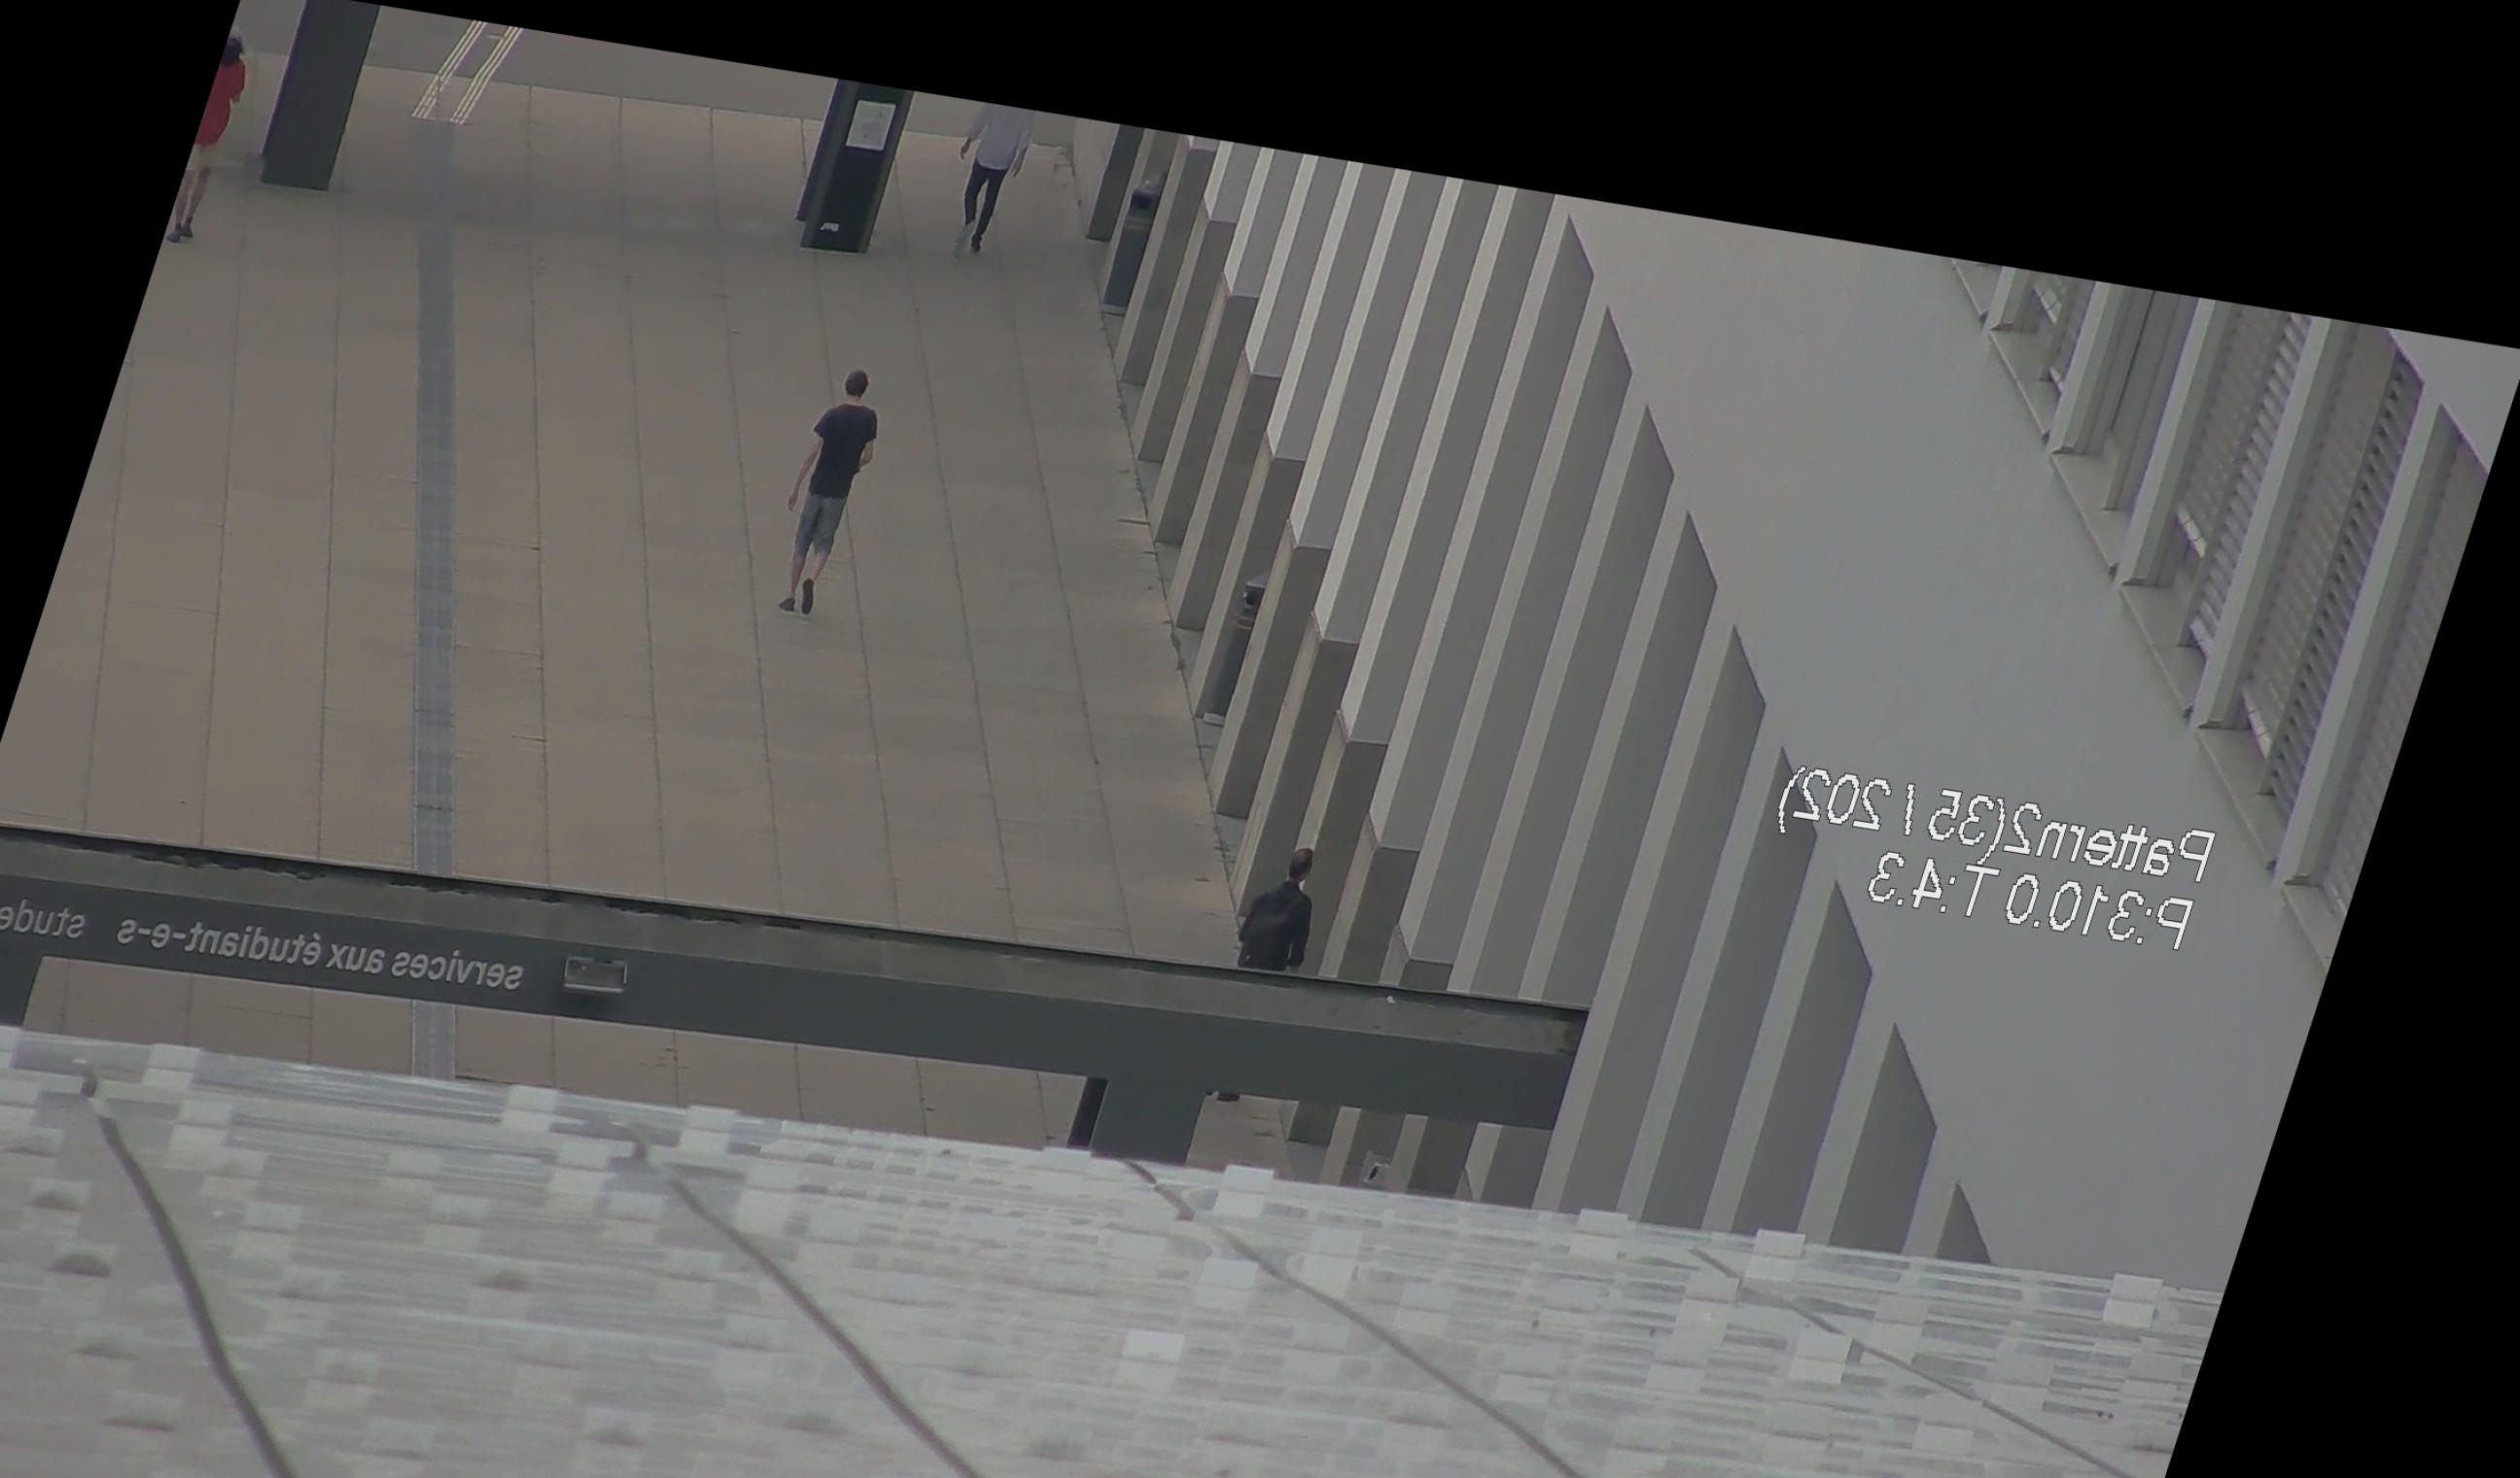Other: (1220, 827, 1356, 994)
